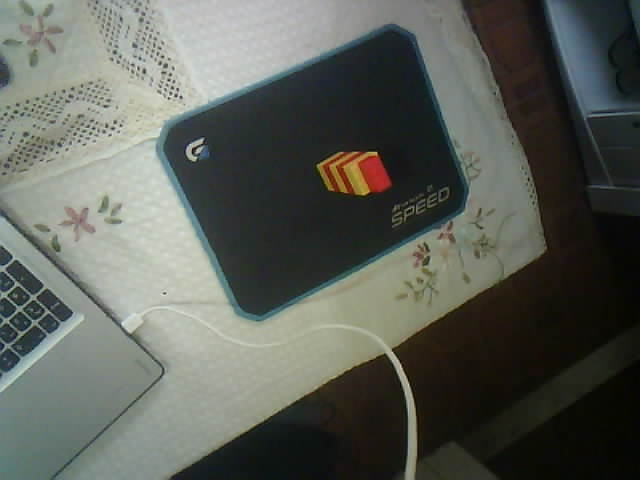lego: (315, 150, 393, 198)
